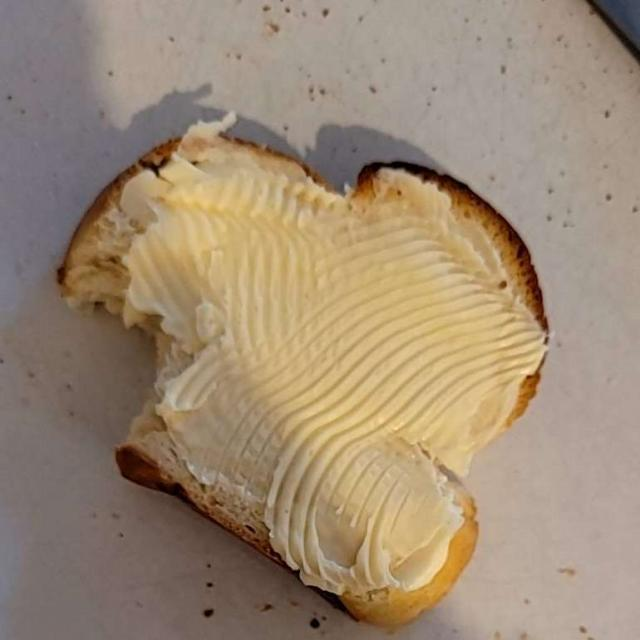bread: (65, 139, 547, 616)
butter: (116, 162, 535, 582)
